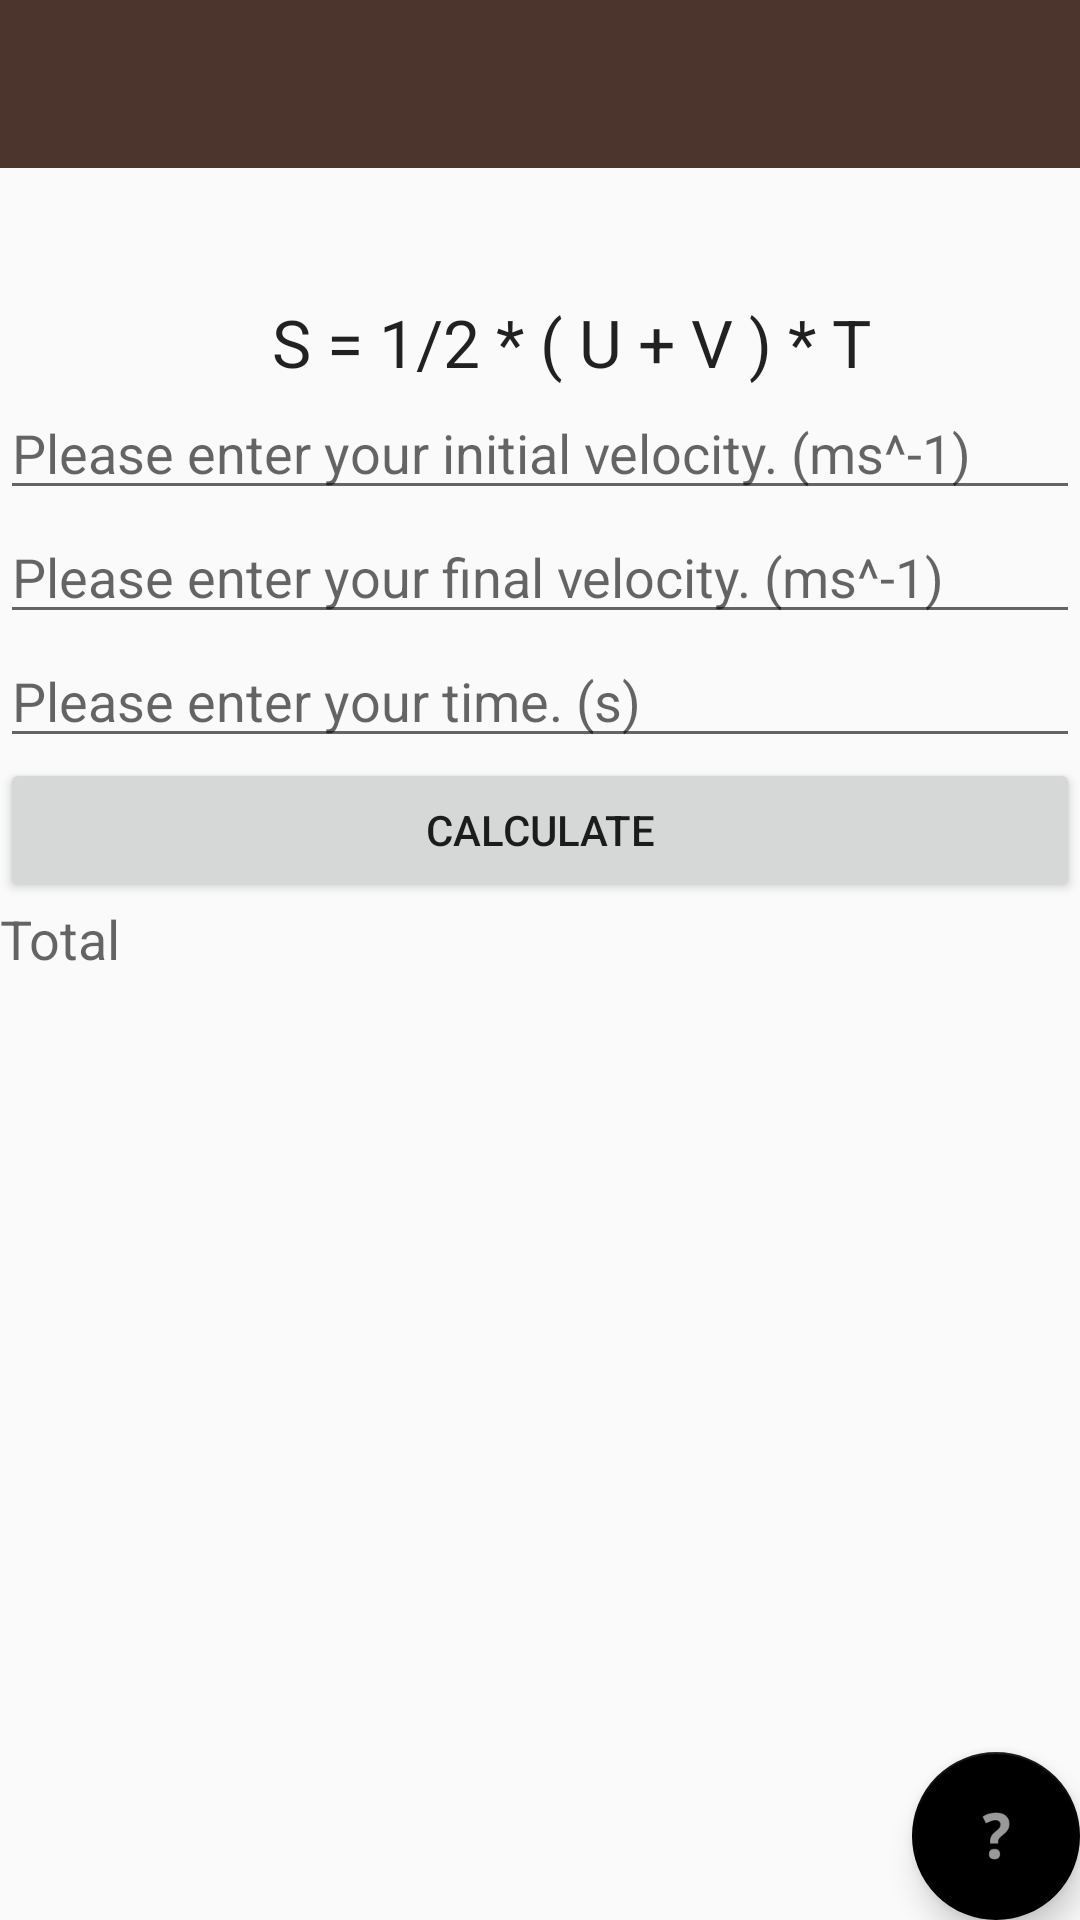

Where to tap for icons on this 1080px x 1920px app screen, as point (x, y):
help: point (996, 1836)
